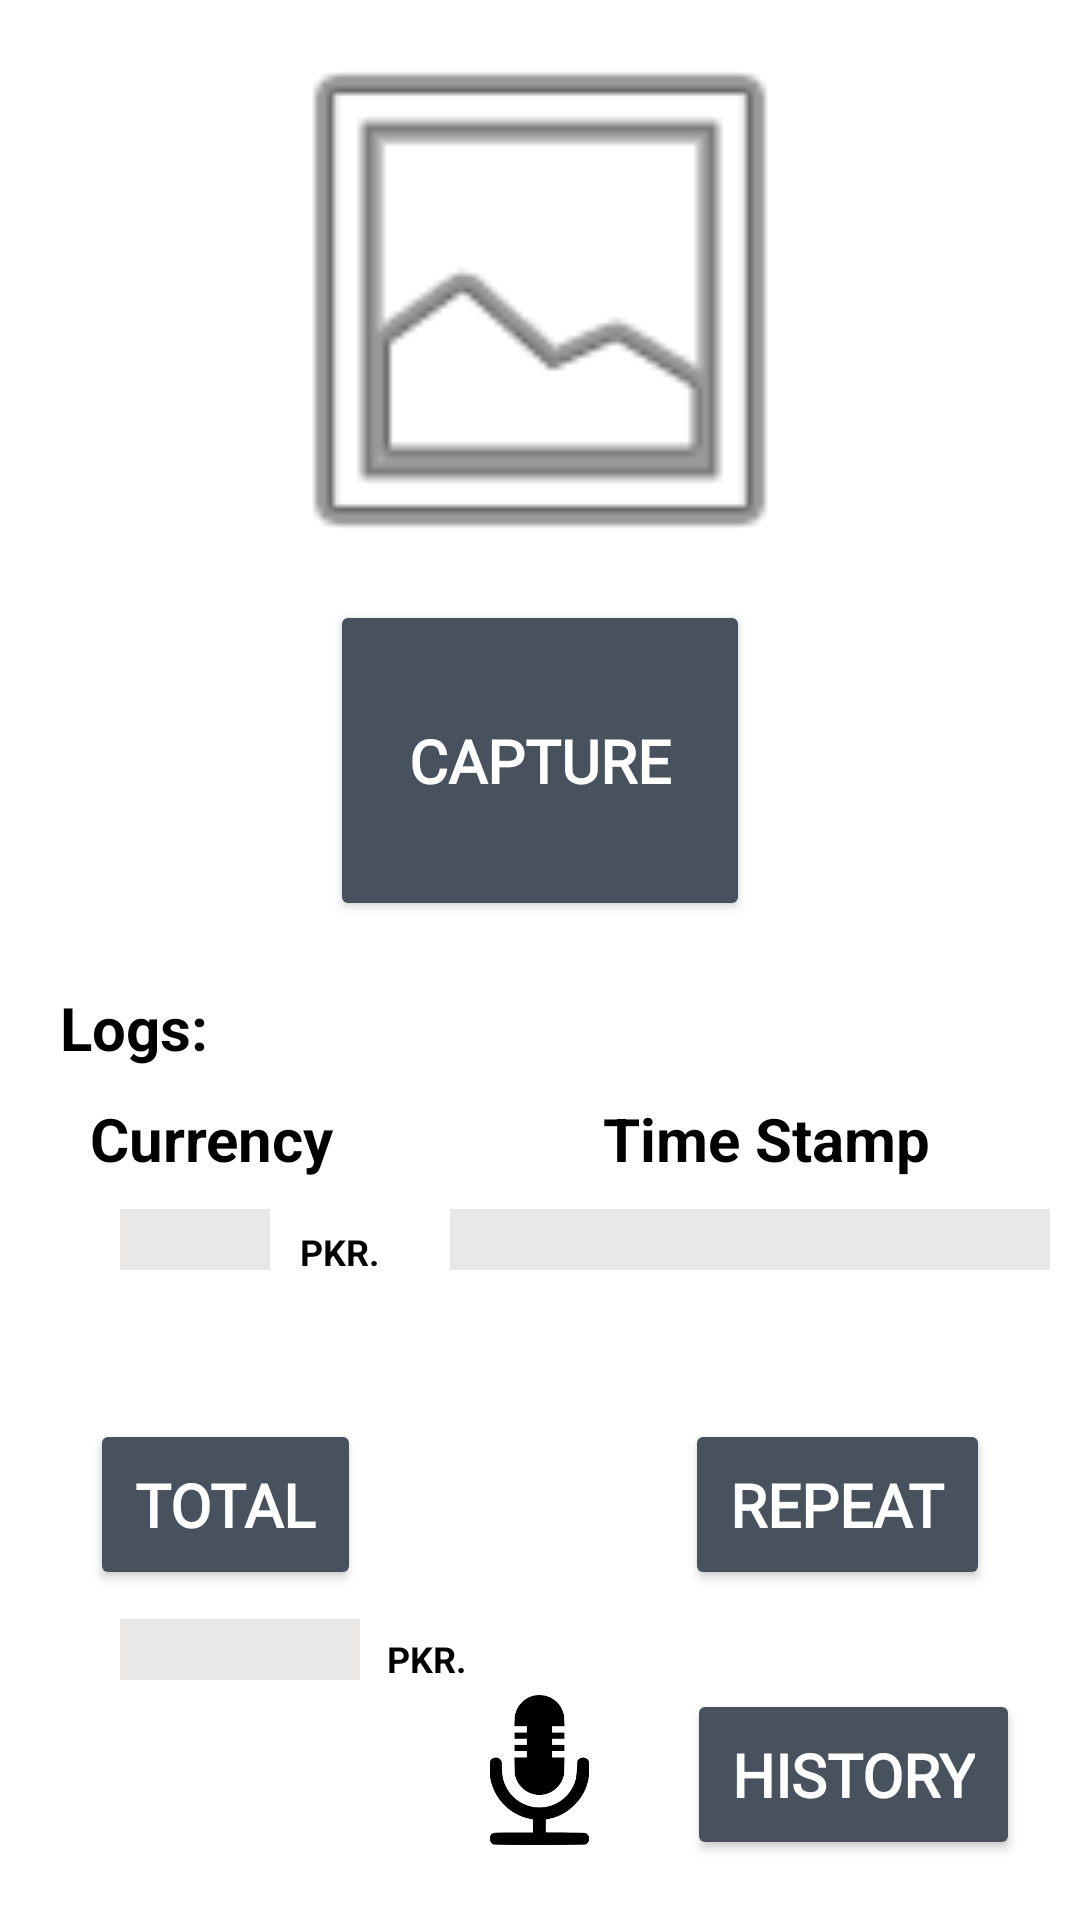

Icons on this 1080w x 1920h Android screen, each with the point to tap as (x=x, y=y):
mic: (x=539, y=1770)
